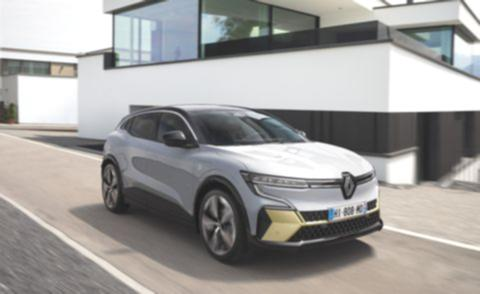Renault: (338, 168, 362, 203)
